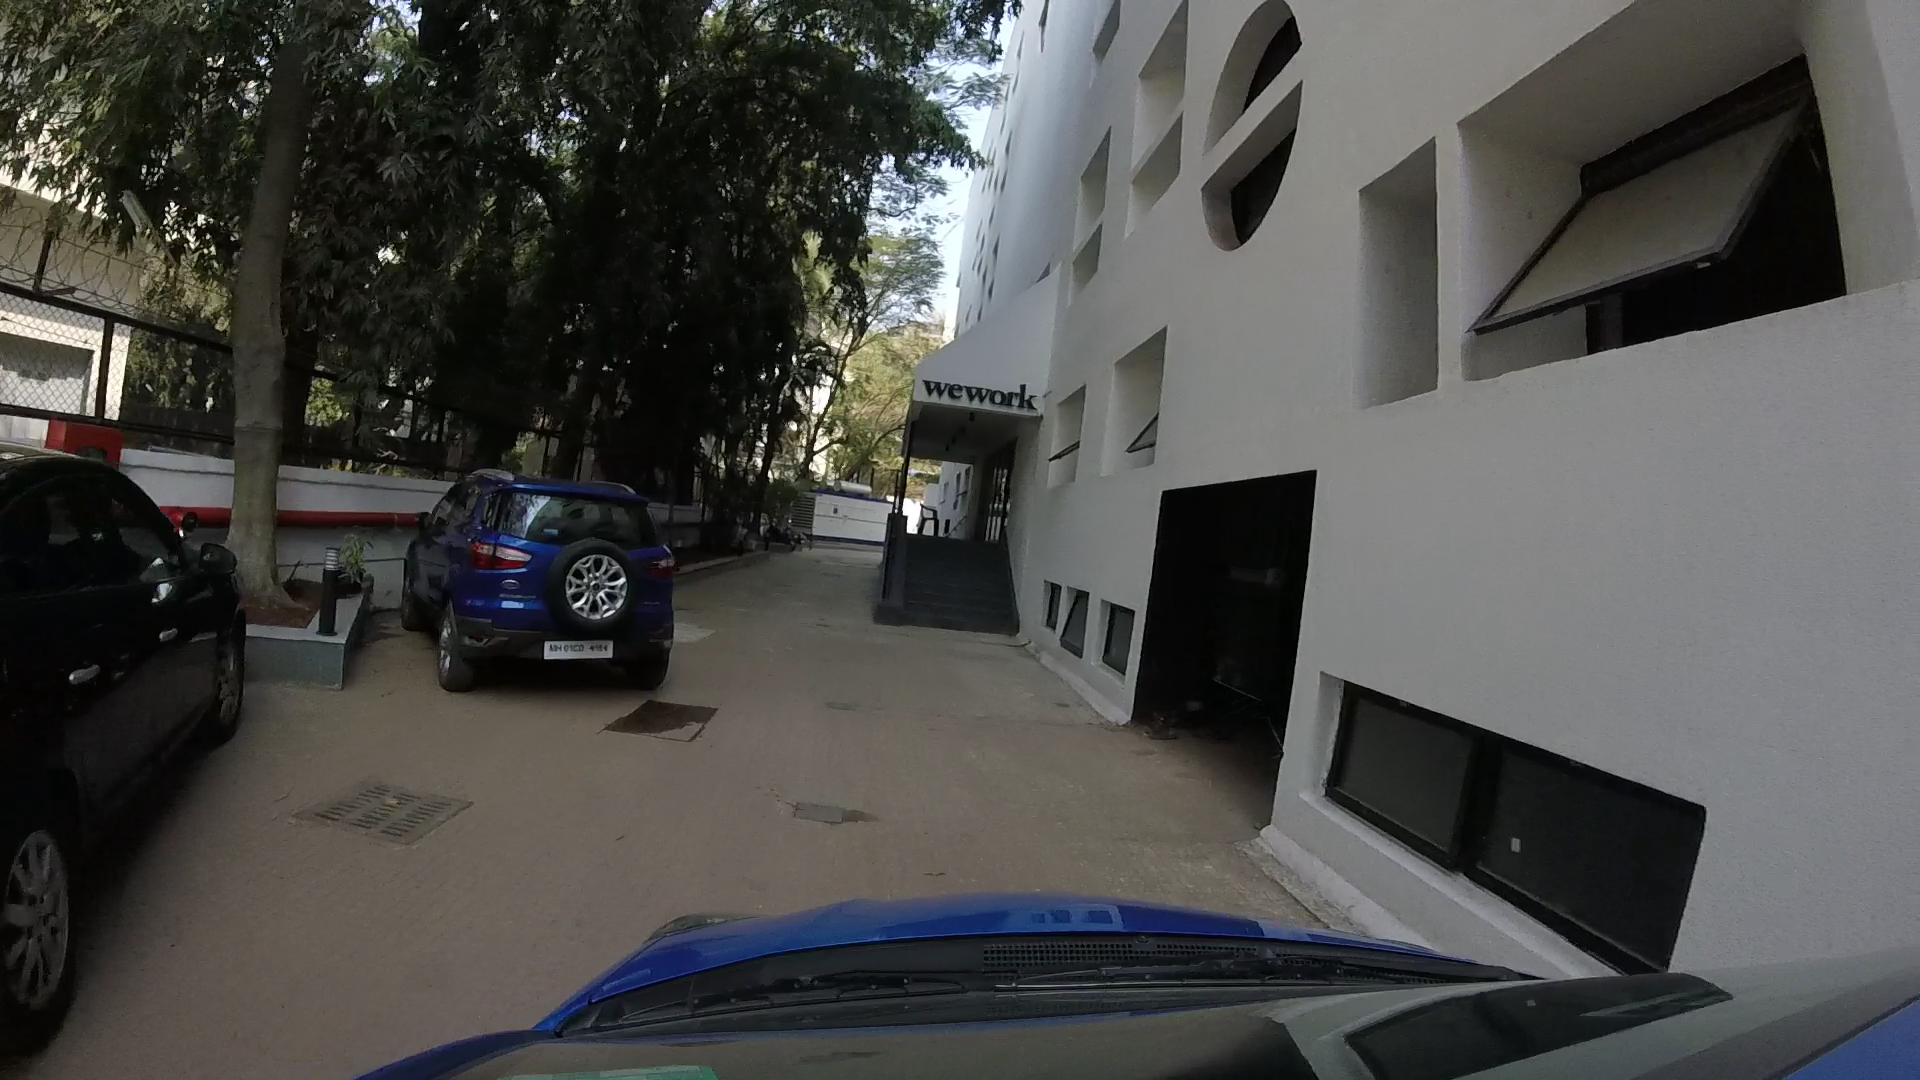car: (4, 407, 260, 1072), (418, 454, 702, 687)
